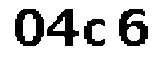0: (13, 5, 46, 52)
4: (46, 6, 81, 55)
6: (116, 7, 156, 52)
c: (82, 13, 110, 50)
